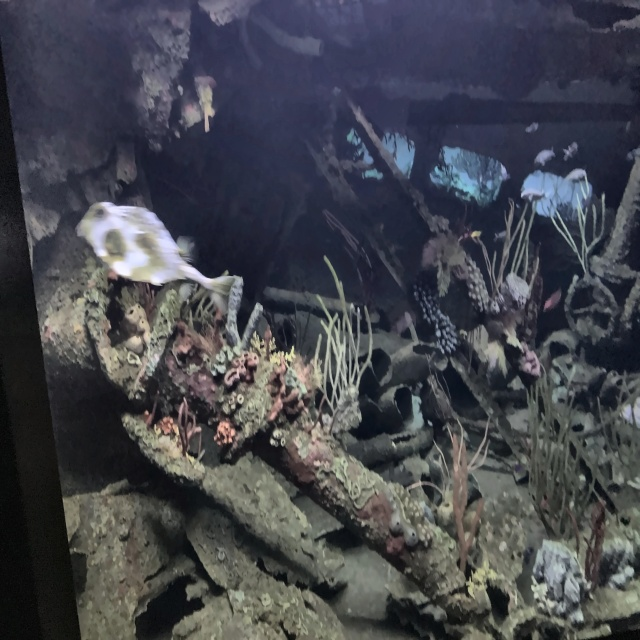fish: (74, 198, 244, 324), (535, 146, 556, 169), (520, 188, 549, 203), (564, 169, 587, 186), (563, 141, 581, 160), (525, 121, 540, 134)
